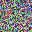expresswaytollstation: (10, 7, 31, 19)
vehicle: (15, 12, 25, 29)
